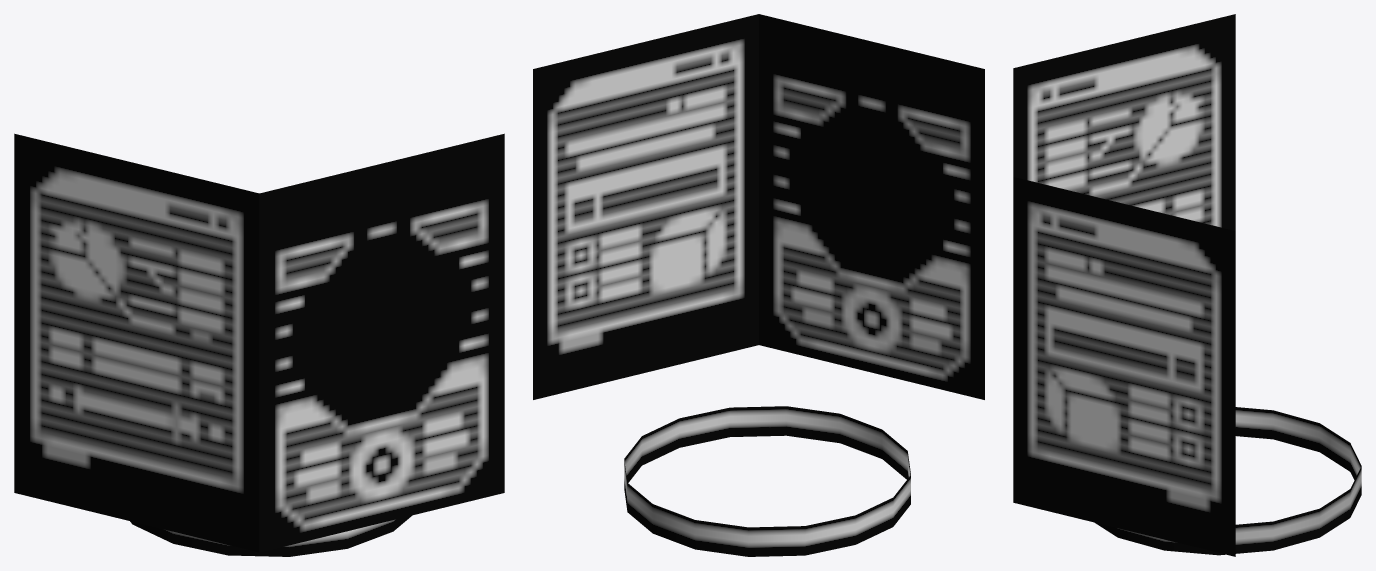
Rendered from HologramMenus.fbx.
3 renders of one model, left to right at view 1: azimuth 30°, elevation 25°; view 2: azimuth 150°, elevation 25°; view 3: azimuth 270°, elevation 25°, orthographic. The views are drawn at different scales.
Parts seen in each view (by area): view 1: MenuRight, MenuCenter, Ring; view 2: MenuCenter, MenuLeft, Ring; view 3: MenuLeft, MenuRight, Ring.
Boxes of the visible parts, x1=… form: MenuRight: x1=14, y1=133, x2=259, y2=552; MenuCenter: x1=259, y1=133, x2=504, y2=552; Ring: x1=130, y1=515, x2=412, y2=556; MenuCenter: x1=759, y1=14, x2=984, y2=399; MenuLeft: x1=533, y1=14, x2=758, y2=399; Ring: x1=624, y1=406, x2=910, y2=556; MenuLeft: x1=1013, y1=177, x2=1235, y2=556; MenuRight: x1=1013, y1=14, x2=1235, y2=230; Ring: x1=1095, y1=407, x2=1361, y2=555.
Size of the model in its own units: 20 by 16 by 13.56.
